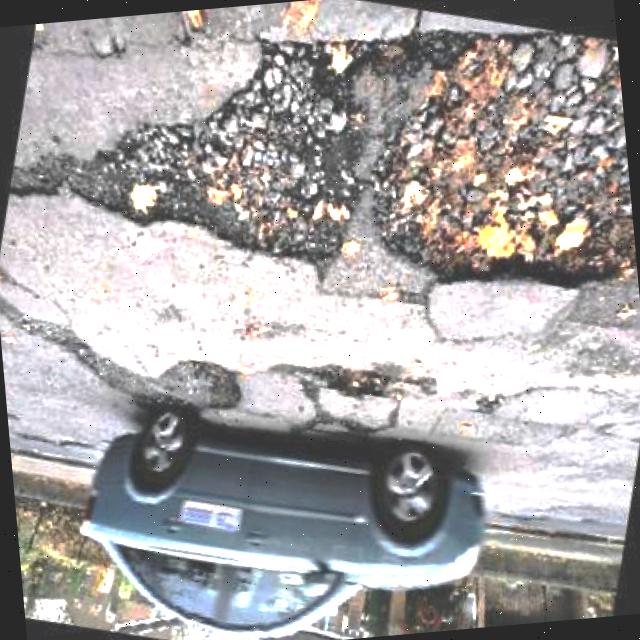pothole: (0, 24, 379, 297), (363, 6, 638, 308), (148, 350, 256, 421), (308, 356, 402, 407)
